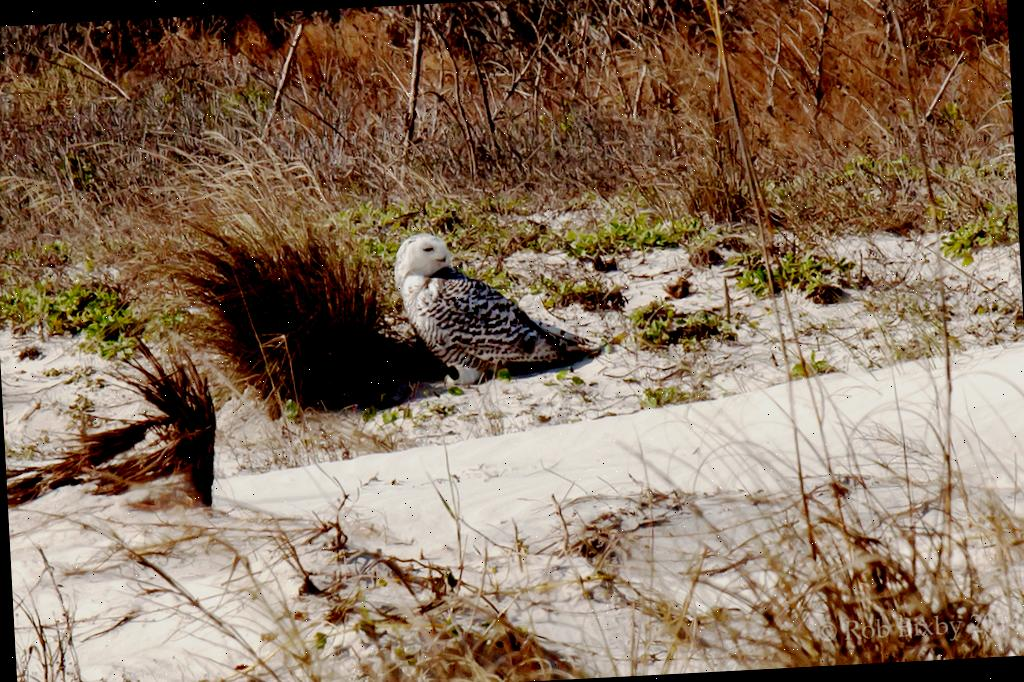Owl: (382, 222, 609, 390)
